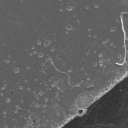corrosion: (64, 23, 74, 32), (76, 108, 86, 117), (42, 39, 52, 47), (66, 4, 74, 13), (36, 51, 45, 59), (3, 56, 11, 65), (13, 66, 21, 74), (109, 25, 117, 33), (49, 46, 57, 53), (67, 67, 75, 74), (84, 76, 92, 83), (35, 39, 42, 46), (51, 82, 58, 89), (39, 62, 47, 68), (101, 38, 107, 46), (5, 97, 11, 104), (93, 3, 100, 9), (18, 84, 24, 91), (117, 52, 123, 59), (92, 61, 98, 67), (43, 96, 49, 102), (98, 53, 104, 59), (53, 102, 59, 108), (108, 42, 114, 48), (86, 27, 92, 32)
